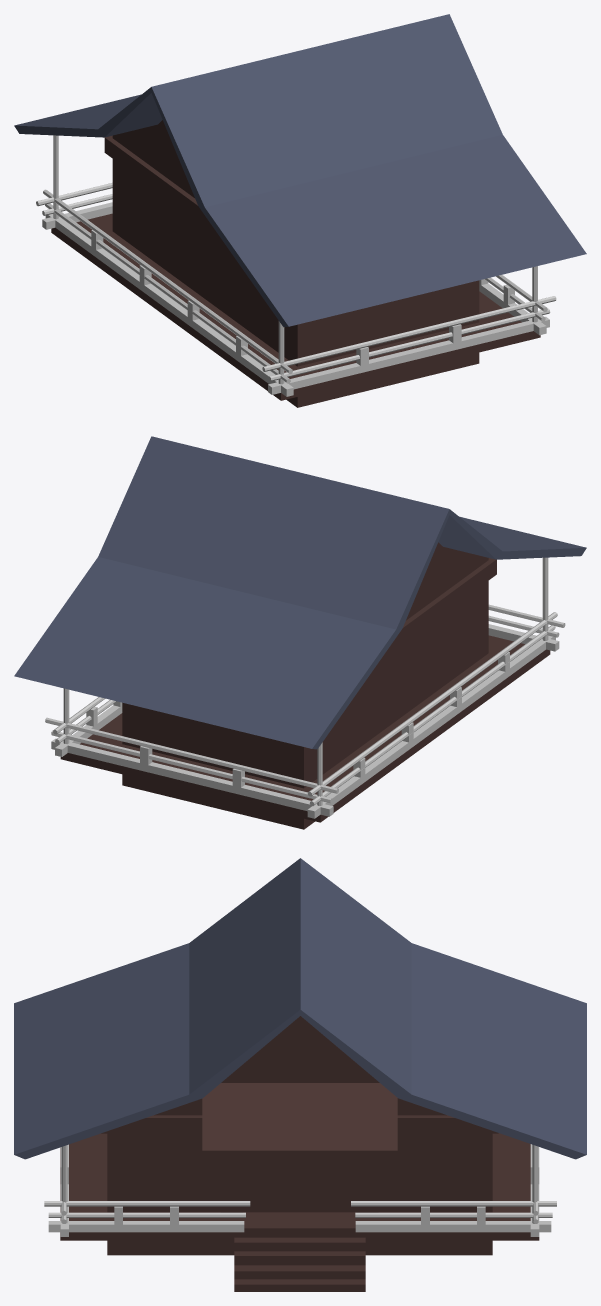
The model's file is Srine.fbx.
3 renders of one model, top to bottom at view 1: azimuth 30°, elevation 25°; view 2: azimuth 150°, elevation 25°; view 3: azimuth 270°, elevation 25°, orthographic. The views are drawn at different scales.
Visible parts, largest first — view 1: Shrine; view 2: Shrine; view 3: Shrine.
Boxes of the visible parts, bbox=[...] form: Shrine: bbox=[14, 14, 586, 407]; Shrine: bbox=[14, 436, 586, 829]; Shrine: bbox=[14, 858, 586, 1291].
Bounding box in the file's own units: 1193 × 980 × 1832.
